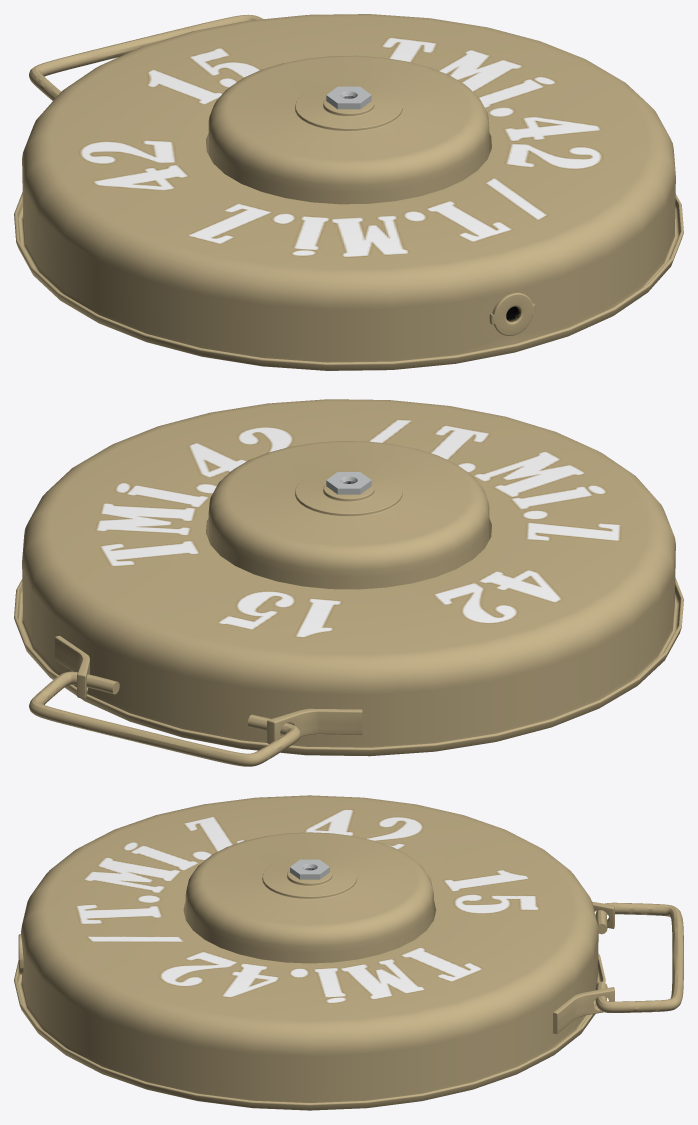
The model's file is landmine1.gltf.
3 views of the same model, one above another, from view 1: azimuth 30°, elevation 25°; view 2: azimuth 150°, elevation 25°; view 3: azimuth 270°, elevation 25° (orthographic). The views are drawn at different scales.
Visible parts, largest first — view 1: Circle.004, Circle.001, NurbsPath, Circle.003; view 2: Circle.004, Circle.001, NurbsPath, Circle.002, Circle.003; view 3: Circle.004, Circle.001, NurbsPath, Circle.002, Circle.003.
Boxes of the visible parts, bbox=[...] form: Circle.004: bbox=[14, 14, 683, 370]; Circle.001: bbox=[208, 55, 489, 204]; NurbsPath: bbox=[29, 14, 263, 100]; Circle.003: bbox=[326, 86, 371, 109]; Circle.004: bbox=[14, 399, 683, 756]; Circle.001: bbox=[208, 441, 489, 589]; NurbsPath: bbox=[29, 671, 300, 766]; Circle.002: bbox=[55, 635, 362, 743]; Circle.003: bbox=[326, 472, 371, 494]; Circle.004: bbox=[14, 795, 605, 1110]; Circle.001: bbox=[185, 832, 433, 963]; NurbsPath: bbox=[595, 902, 683, 1012]; Circle.002: bbox=[553, 901, 614, 1034]; Circle.003: bbox=[290, 859, 329, 879].
Bounding box in the file's own units: 2.16 × 0.4819 × 2.44.
1 material, 1 textured.
